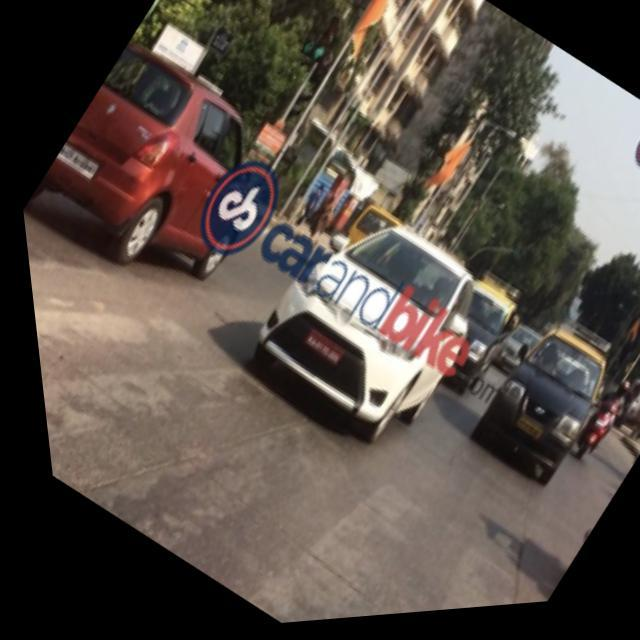license_plate: (286, 318, 350, 378)
